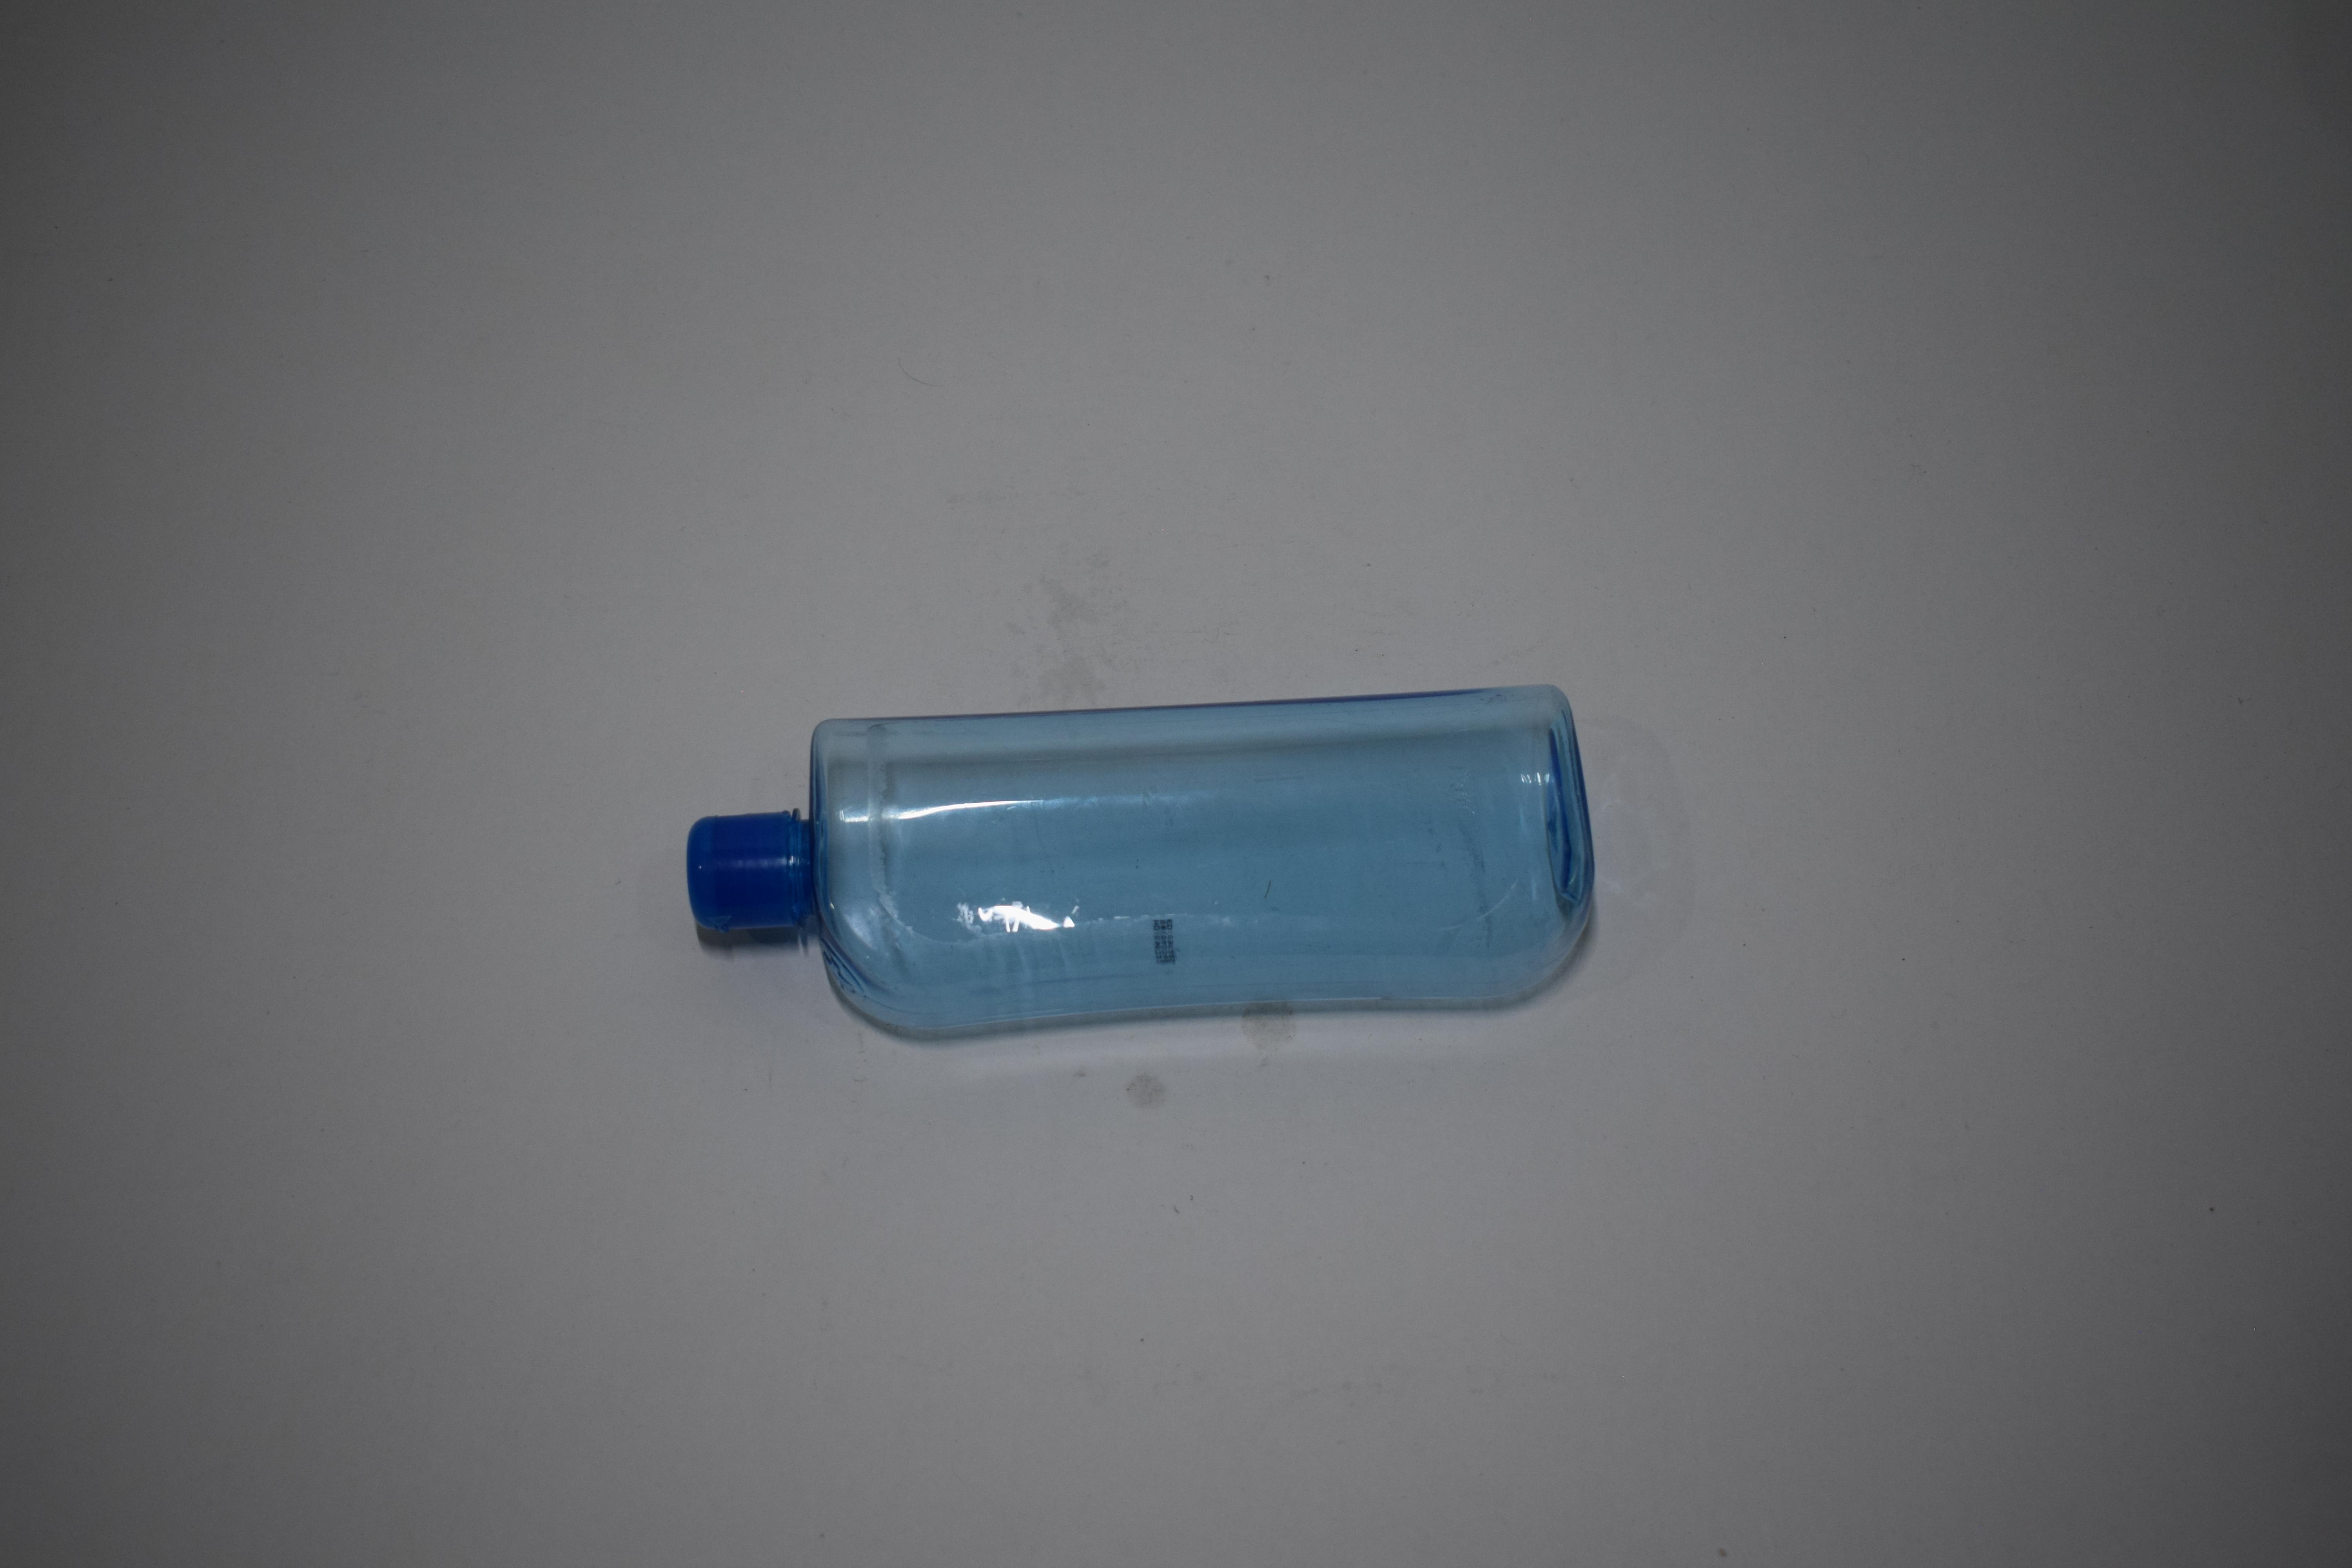bottle: (667, 0, 1591, 262)
